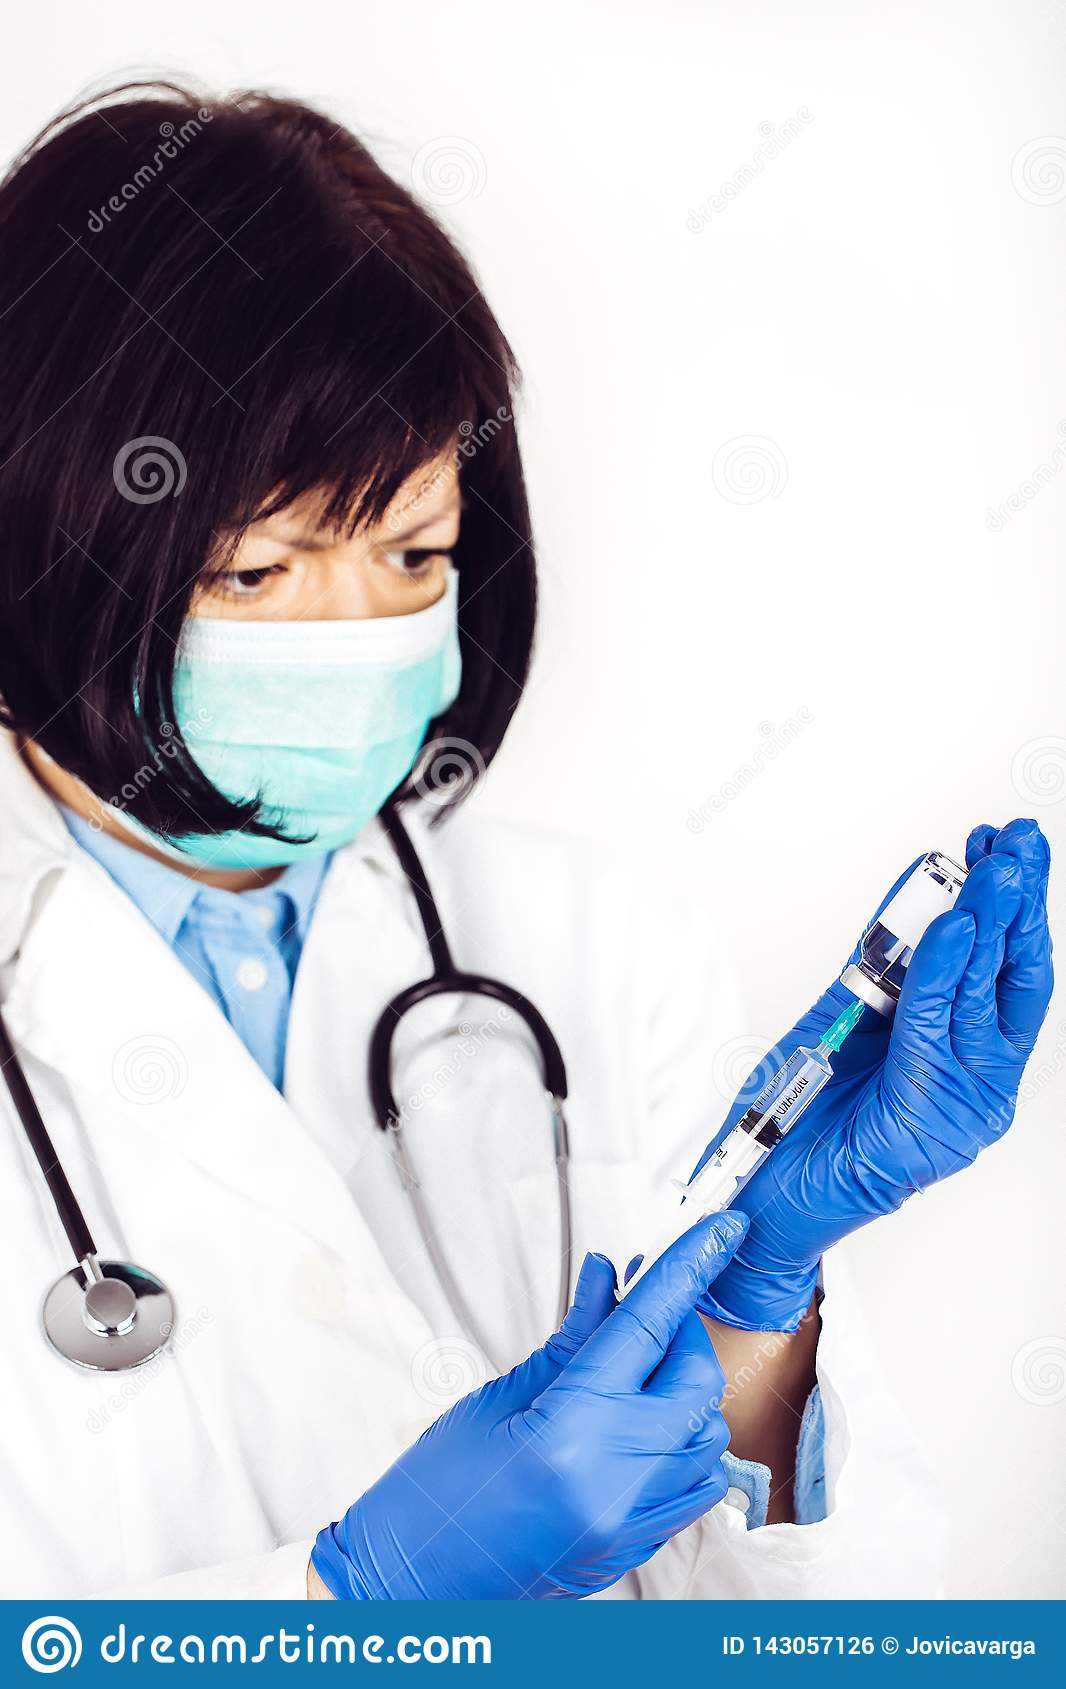mask: (131, 594, 475, 867)
